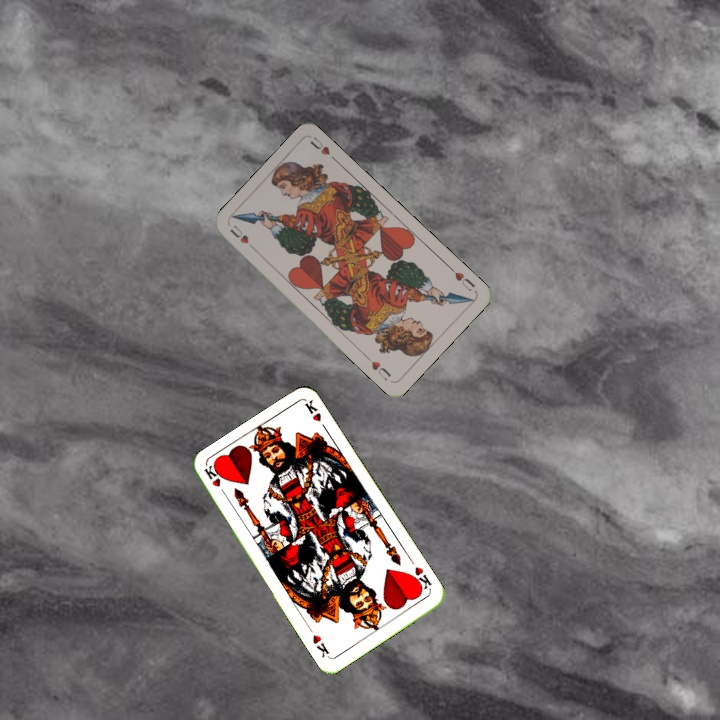HK: (200, 462, 230, 500), (407, 563, 434, 594)
HU: (226, 221, 258, 253), (445, 263, 478, 294)
